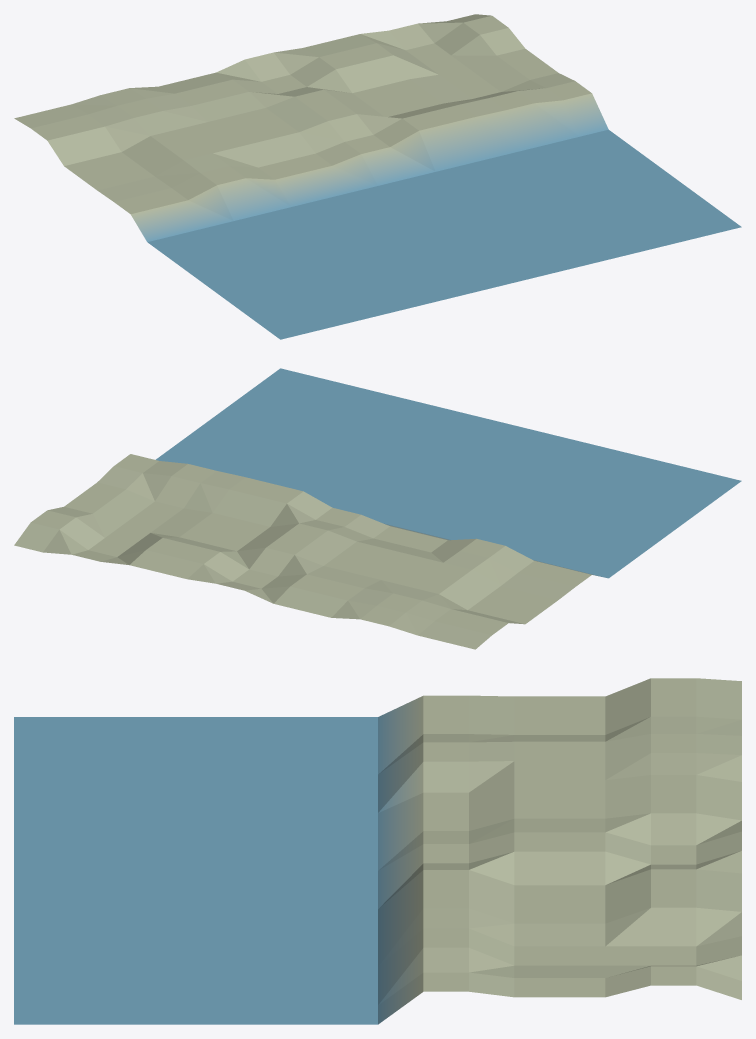
The picture shows the model from 3 angles, top to bottom: view 1: azimuth 30°, elevation 25°; view 2: azimuth 150°, elevation 25°; view 3: azimuth 270°, elevation 25°; orthographic projection. The views are drawn at different scales.
Size of the model in its own units: 32 by 1.99 by 32.
